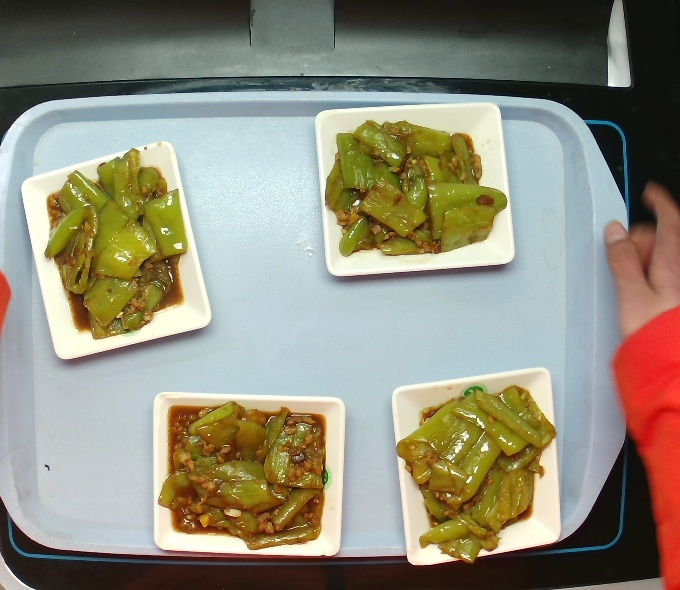wcq-RouMoQingJiao: (393, 367, 558, 572), (325, 112, 501, 263), (157, 397, 322, 550), (45, 155, 179, 342)
